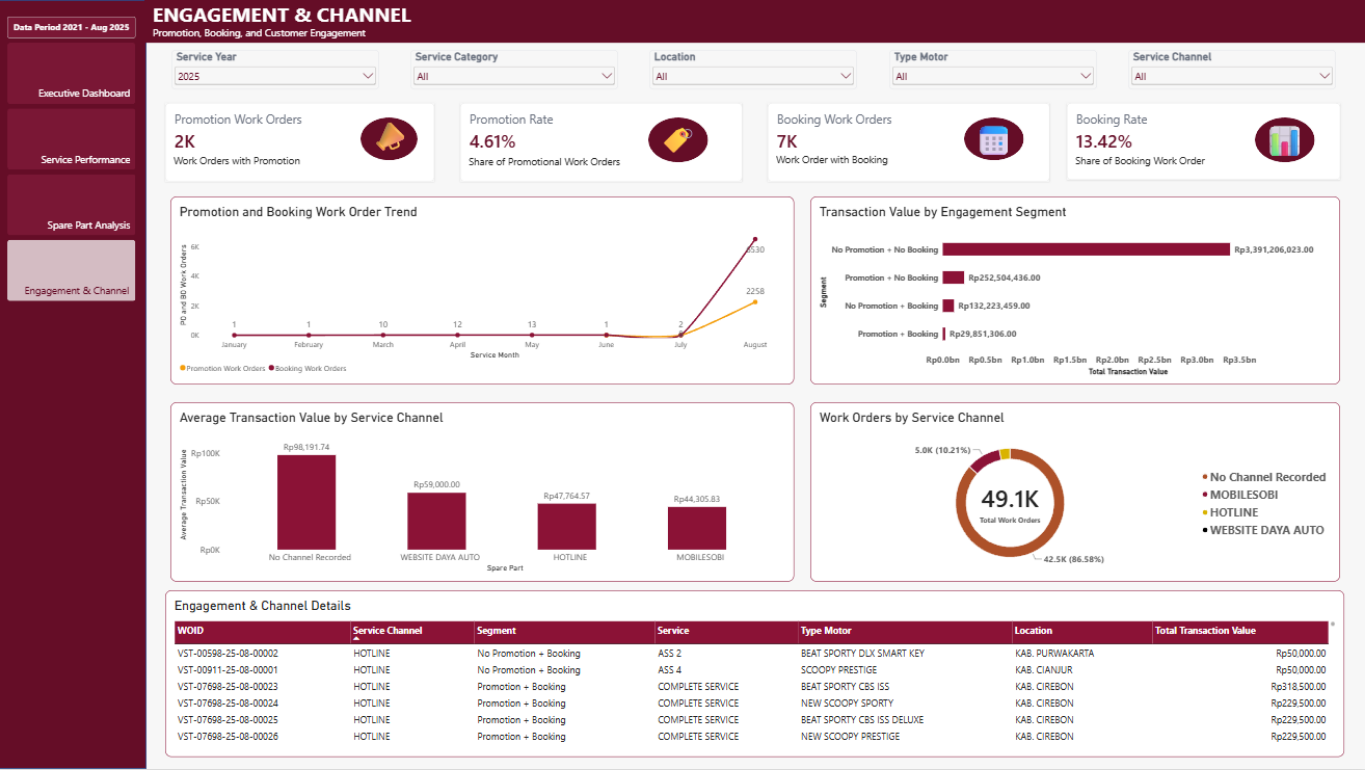

The dashboard page shown, as its layout file describes it:
{"tool":"powerbi","page":{"name":"Engagement & Channel","canvas":[2560,1440],"ordinal":3},"visuals":[{"type":"shape","box":[0,0,276.1,1439.1],"z":0},{"type":"cardVisual","title":"Total Work Order","fields":{"Data":["Fact_Work_Order.Promotion Rate"]},"box":[864,192,528,147],"z":1000},{"type":"pageNavigator","box":[16,80,240,608],"z":2000},{"type":"cardVisual","title":"Total Work Order","fields":{"Data":["Fact_Work_Order.Promotion Work Orders"]},"box":[312,192,504,147],"z":2000,"group":"g3"},{"type":"donutChart","title":"Work Orders by Service Channel","fields":{"Y":["Fact_Work_Order.Total Work Orders"],"Category":["Fact_Work_Order.service_channel"]},"box":[1520,752,992,336],"z":3000},{"type":"cardVisual","title":"Total Work Order","fields":{"Data":["Fact_Work_Order.Booking Work Orders"]},"box":[1440,192,528,147],"z":4000,"group":"g2"},{"type":"lineChart","title":"Promotion and Booking Work Order Trend","fields":{"Category":["Fact_Work_Order.service_month_name"],"Y":["Fact_Work_Order.Promotion Work Orders","Fact_Work_Order.Booking Work Orders"]},"box":[320,368,1168,352],"z":4000},{"type":"tableEx","title":"Engagement & Channel Details","fields":{"Values":["Fact_Work_Order.woid","Fact_Work_Order.service_channel","Fact_Work_Order.engagement_segment","Fact_Work_Order.service_category","Fact_Work_Order.type_motor","Fact_Work_Order.location","Fact_Work_Order.Total Transaction Value"]},"box":[312,1104,2208,312],"z":5000},{"type":"shape","box":[272,0,2288,80],"z":6000},{"type":"clusteredColumnChart","title":"Average Transaction Value by Service Channel","fields":{"Category":["Fact_Work_Order.service_channel"],"Y":["Fact_Work_Order.Average Transaction Value"]},"box":[320,752,1168,336],"z":7000},{"type":"slicer","fields":{"Values":["Fact_Work_Order.service_year"]},"box":[323,94,389.1,73.9],"z":8000},{"type":"slicer","fields":{"Values":["Fact_Work_Order.service_category"]},"box":[770.7,94,389.1,73.9],"z":9000},{"type":"slicer","fields":{"Values":["Fact_Work_Order.location"]},"box":[1218.5,94,389.1,73.9],"z":10000},{"type":"slicer","fields":{"Values":["Fact_Work_Order.type_motor"]},"box":[1666.2,94,389.1,73.9],"z":11000},{"type":"slicer","fields":{"Values":["Fact_Work_Order.service_channel"]},"box":[2114,94,389.1,73.9],"z":12000},{"type":"textbox","box":[288,0,752,80],"z":13000},{"type":"group","id":"g1","title":"Group 1","box":[16,32,240,32],"z":14000},{"type":"clusteredBarChart","title":"Transaction Value by Engagement Segment","fields":{"Category":["Fact_Work_Order.engagement_segment"],"Y":["Fact_Work_Order.Total Transaction Value"]},"box":[1520,368,992,352],"z":15000},{"type":"textbox","box":[880,290,304,28],"z":16000},{"type":"cardVisual","title":"Total Work Order","fields":{"Data":["Fact_Work_Order.Booking Rate"]},"box":[2000,192,512,144],"z":17000},{"type":"group","id":"g2","title":"Group 4","box":[1440,192,528,144],"z":18000},{"type":"group","id":"g3","title":"Group 5","box":[312,192,504,147],"z":19000},{"type":"group","id":"g4","title":"Group 6","box":[1216,220,112,84],"z":20000},{"type":"textbox","box":[328,288,352,32],"z":20000,"group":"g3"},{"type":"shape","box":[1216,220,112,84],"z":21000,"group":"g4"},{"type":"shape","box":[2352,220,112,84],"z":21000,"group":"g5"},{"type":"textbox","box":[2016,288,272,32],"z":21000},{"type":"shape","box":[16,32,240,40],"z":22000,"group":"g1"},{"type":"group","id":"g5","title":"Group 6","box":[2352,220,112,84],"z":22000},{"type":"textbox","box":[1456,285.5,448,26.7],"z":22000,"group":"g2"},{"type":"textbox","box":[16,40,240,24],"z":23000,"group":"g1"},{"type":"group","id":"g6","title":"Group 3","box":[678.5,218.7,106.9,80.2],"z":23000,"group":"g3"},{"type":"textbox","box":[696,216,72,72],"z":25000},{"type":"textbox","box":[1216,224,112,80],"z":26000},{"type":"shape","box":[678.5,218.7,106.9,80.2],"z":27000,"group":"g6"},{"type":"shape","box":[1808,218.7,112,80.2],"z":27000,"group":"g2"},{"type":"textbox","box":[1808,224,112,80],"z":27000},{"type":"textbox","box":[2352,224,112,80],"z":28000}]}

Visuals, with their boxes on the page's 2560x1440 design canvas (x1, y1, x2, y2). These are canvas units, not pixel positions in the 1365x770 screenshot, which may show the page scaled, cropped or inside an application window:
shape: 0, 0, 276, 1439
"Total Work Order" cardVisual: 864, 192, 1392, 339
pageNavigator: 16, 80, 256, 688
"Total Work Order" cardVisual: 312, 192, 816, 339
"Work Orders by Service Channel" donutChart: 1520, 752, 2512, 1088
"Total Work Order" cardVisual: 1440, 192, 1968, 339
"Promotion and Booking Work Order Trend" lineChart: 320, 368, 1488, 720
"Engagement & Channel Details" tableEx: 312, 1104, 2520, 1416
shape: 272, 0, 2560, 80
"Average Transaction Value by Service Channel" clusteredColumnChart: 320, 752, 1488, 1088
slicer - Fact_Work_Order.service_year: 323, 94, 712, 168
slicer - Fact_Work_Order.service_category: 771, 94, 1160, 168
slicer - Fact_Work_Order.location: 1218, 94, 1608, 168
slicer - Fact_Work_Order.type_motor: 1666, 94, 2055, 168
slicer - Fact_Work_Order.service_channel: 2114, 94, 2503, 168
textbox: 288, 0, 1040, 80
"Group 1" group: 16, 32, 256, 64
"Transaction Value by Engagement Segment" clusteredBarChart: 1520, 368, 2512, 720
textbox: 880, 290, 1184, 318
"Total Work Order" cardVisual: 2000, 192, 2512, 336
"Group 4" group: 1440, 192, 1968, 336
"Group 5" group: 312, 192, 816, 339
"Group 6" group: 1216, 220, 1328, 304
textbox: 328, 288, 680, 320
shape: 1216, 220, 1328, 304
shape: 2352, 220, 2464, 304
textbox: 2016, 288, 2288, 320
shape: 16, 32, 256, 72
"Group 6" group: 2352, 220, 2464, 304
textbox: 1456, 286, 1904, 312
textbox: 16, 40, 256, 64
"Group 3" group: 678, 219, 785, 299
textbox: 696, 216, 768, 288
textbox: 1216, 224, 1328, 304
shape: 678, 219, 785, 299
shape: 1808, 219, 1920, 299
textbox: 1808, 224, 1920, 304
textbox: 2352, 224, 2464, 304
